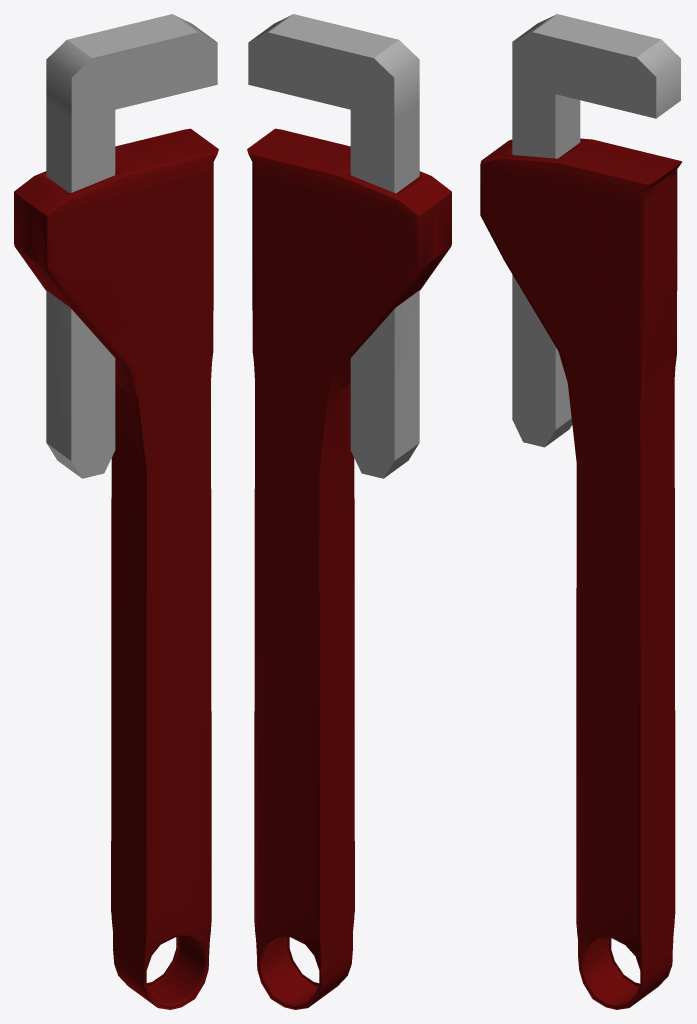
The model's file is Wrench1.fbx.
3 renders of one model, left to right at view 1: azimuth 30°, elevation 25°; view 2: azimuth 150°, elevation 25°; view 3: azimuth 330°, elevation 25°, orthographic.
Parts seen in each view (by area): view 1: Wrench; view 2: Wrench; view 3: Wrench.
Part boxes in pixels (x1,y1,x2,y2): Wrench: [14, 14, 218, 1009]; Wrench: [247, 14, 451, 1009]; Wrench: [480, 14, 681, 1009].
Bounding box in the file's own units: 1.81 × 9.54 × 0.6298.
